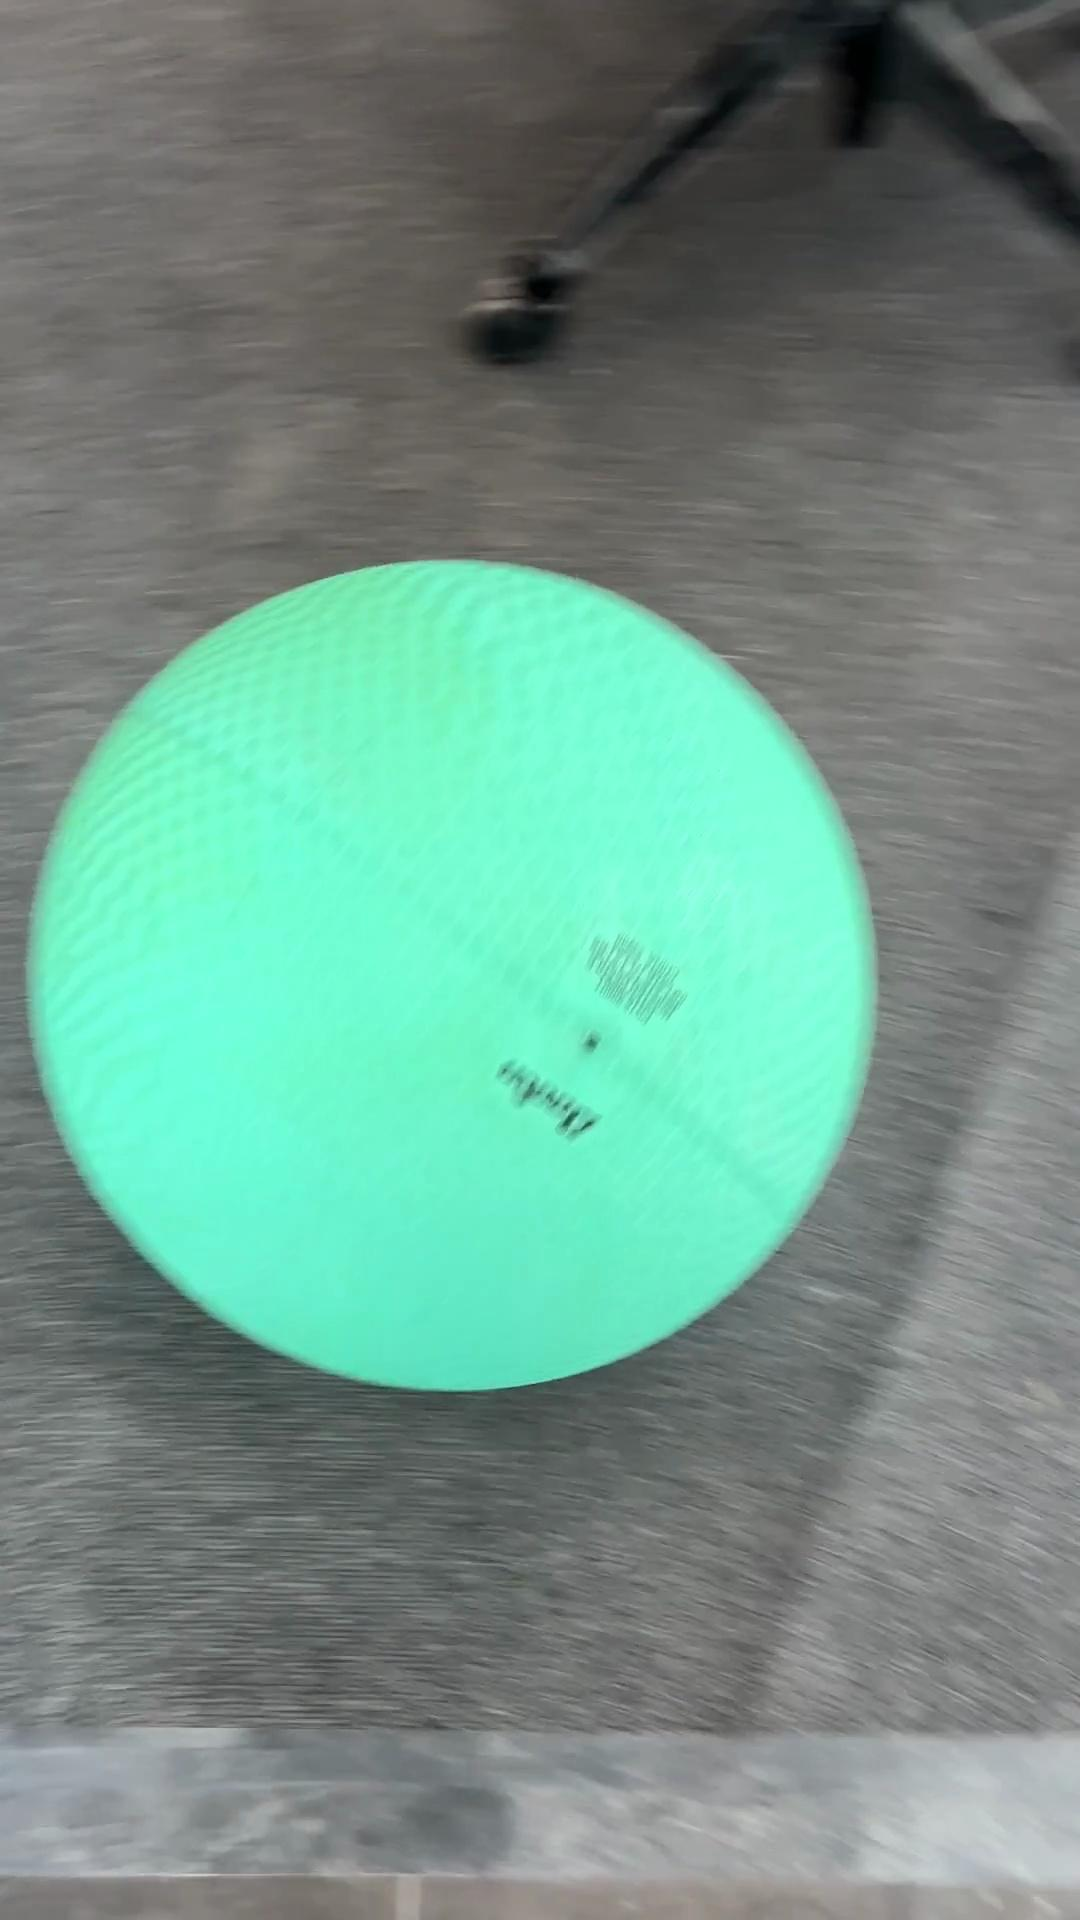ALGAE: (24, 554, 880, 1395)
